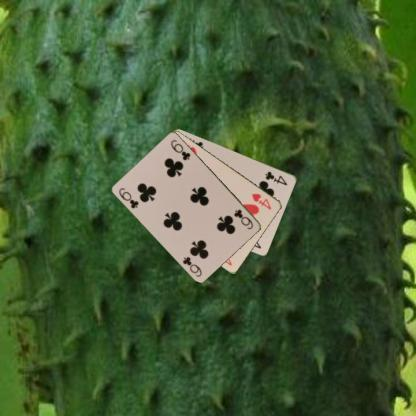4c: (262, 168, 289, 186)
4h: (249, 190, 273, 210)
6c: (116, 185, 140, 210), (232, 206, 254, 231)
